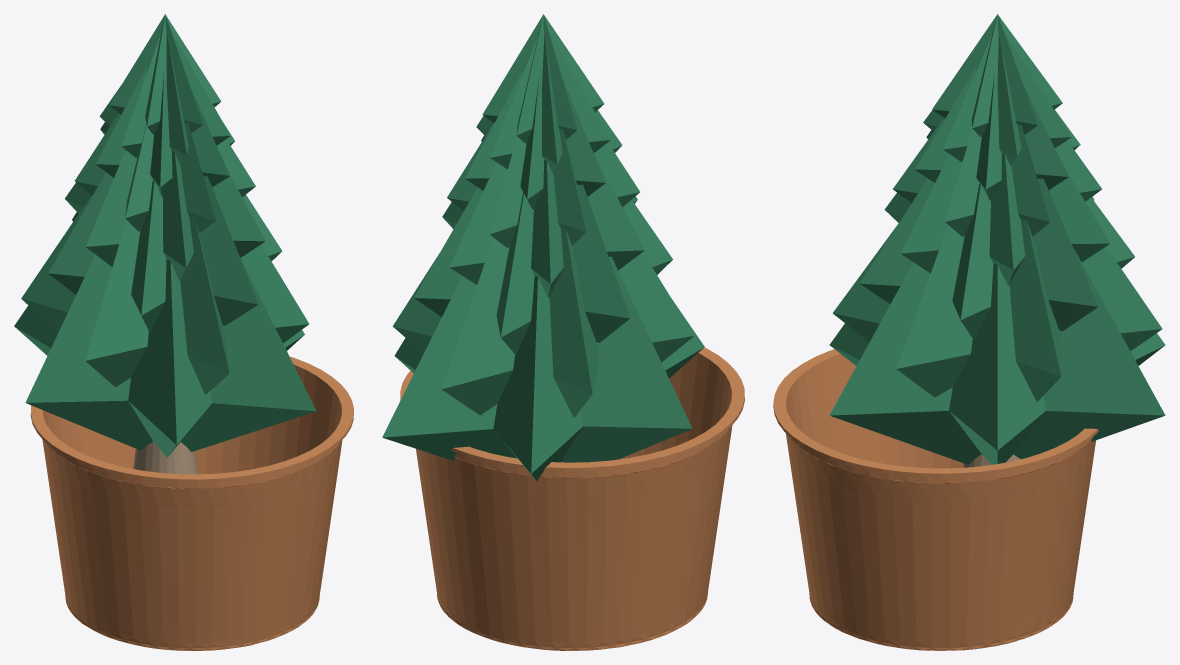
Rendered from potted_tree_3.glb.
3 views of the same model, side by side, from view 1: azimuth 30°, elevation 25°; view 2: azimuth 150°, elevation 25°; view 3: azimuth 270°, elevation 25° (orthographic). The views are drawn at different scales.
Parts seen in each view (by area): view 1: Mesh_Mesh_head_geo.001_lambert2SG.001; view 2: Mesh_Mesh_head_geo.001_lambert2SG.001; view 3: Mesh_Mesh_head_geo.001_lambert2SG.001.
Part boxes in pixels (x1,y1,x2,y2): Mesh_Mesh_head_geo.001_lambert2SG.001: (14, 14, 353, 650); Mesh_Mesh_head_geo.001_lambert2SG.001: (382, 14, 744, 650); Mesh_Mesh_head_geo.001_lambert2SG.001: (773, 14, 1165, 650).
Size of the model in its own units: 1.57 by 3.02 by 1.84.
